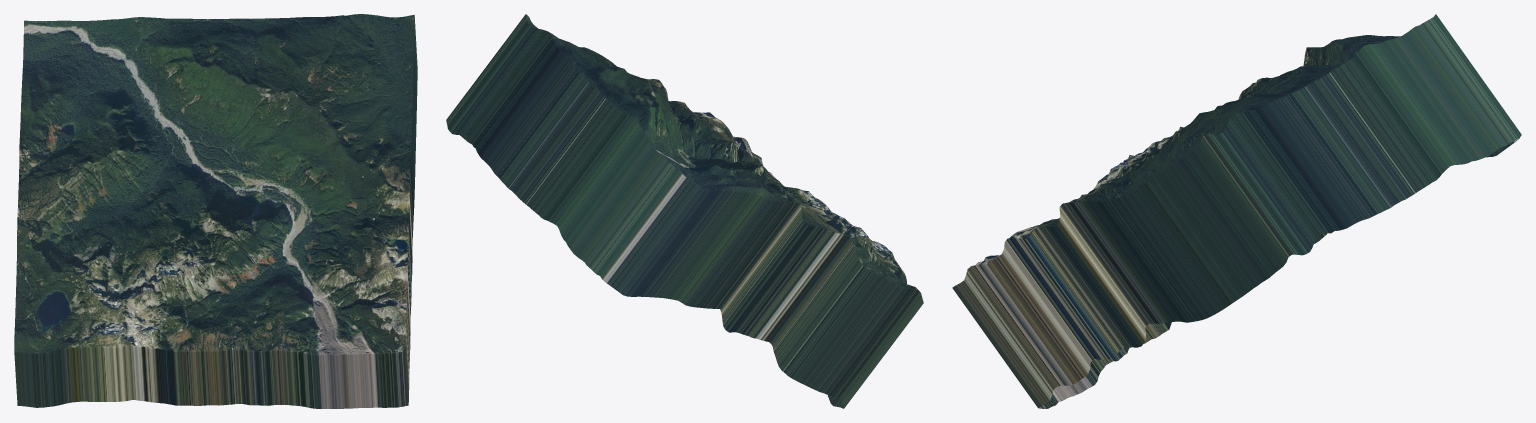
3 renders of one model, left to right at view 1: azimuth 30°, elevation 25°; view 2: azimuth 150°, elevation 25°; view 3: azimuth 270°, elevation 25°, orthographic. The views are drawn at different scales.
Bounding box in the file's own units: 11091 × 7415 × 11539.
Materials: 1 (1 with a texture image).
